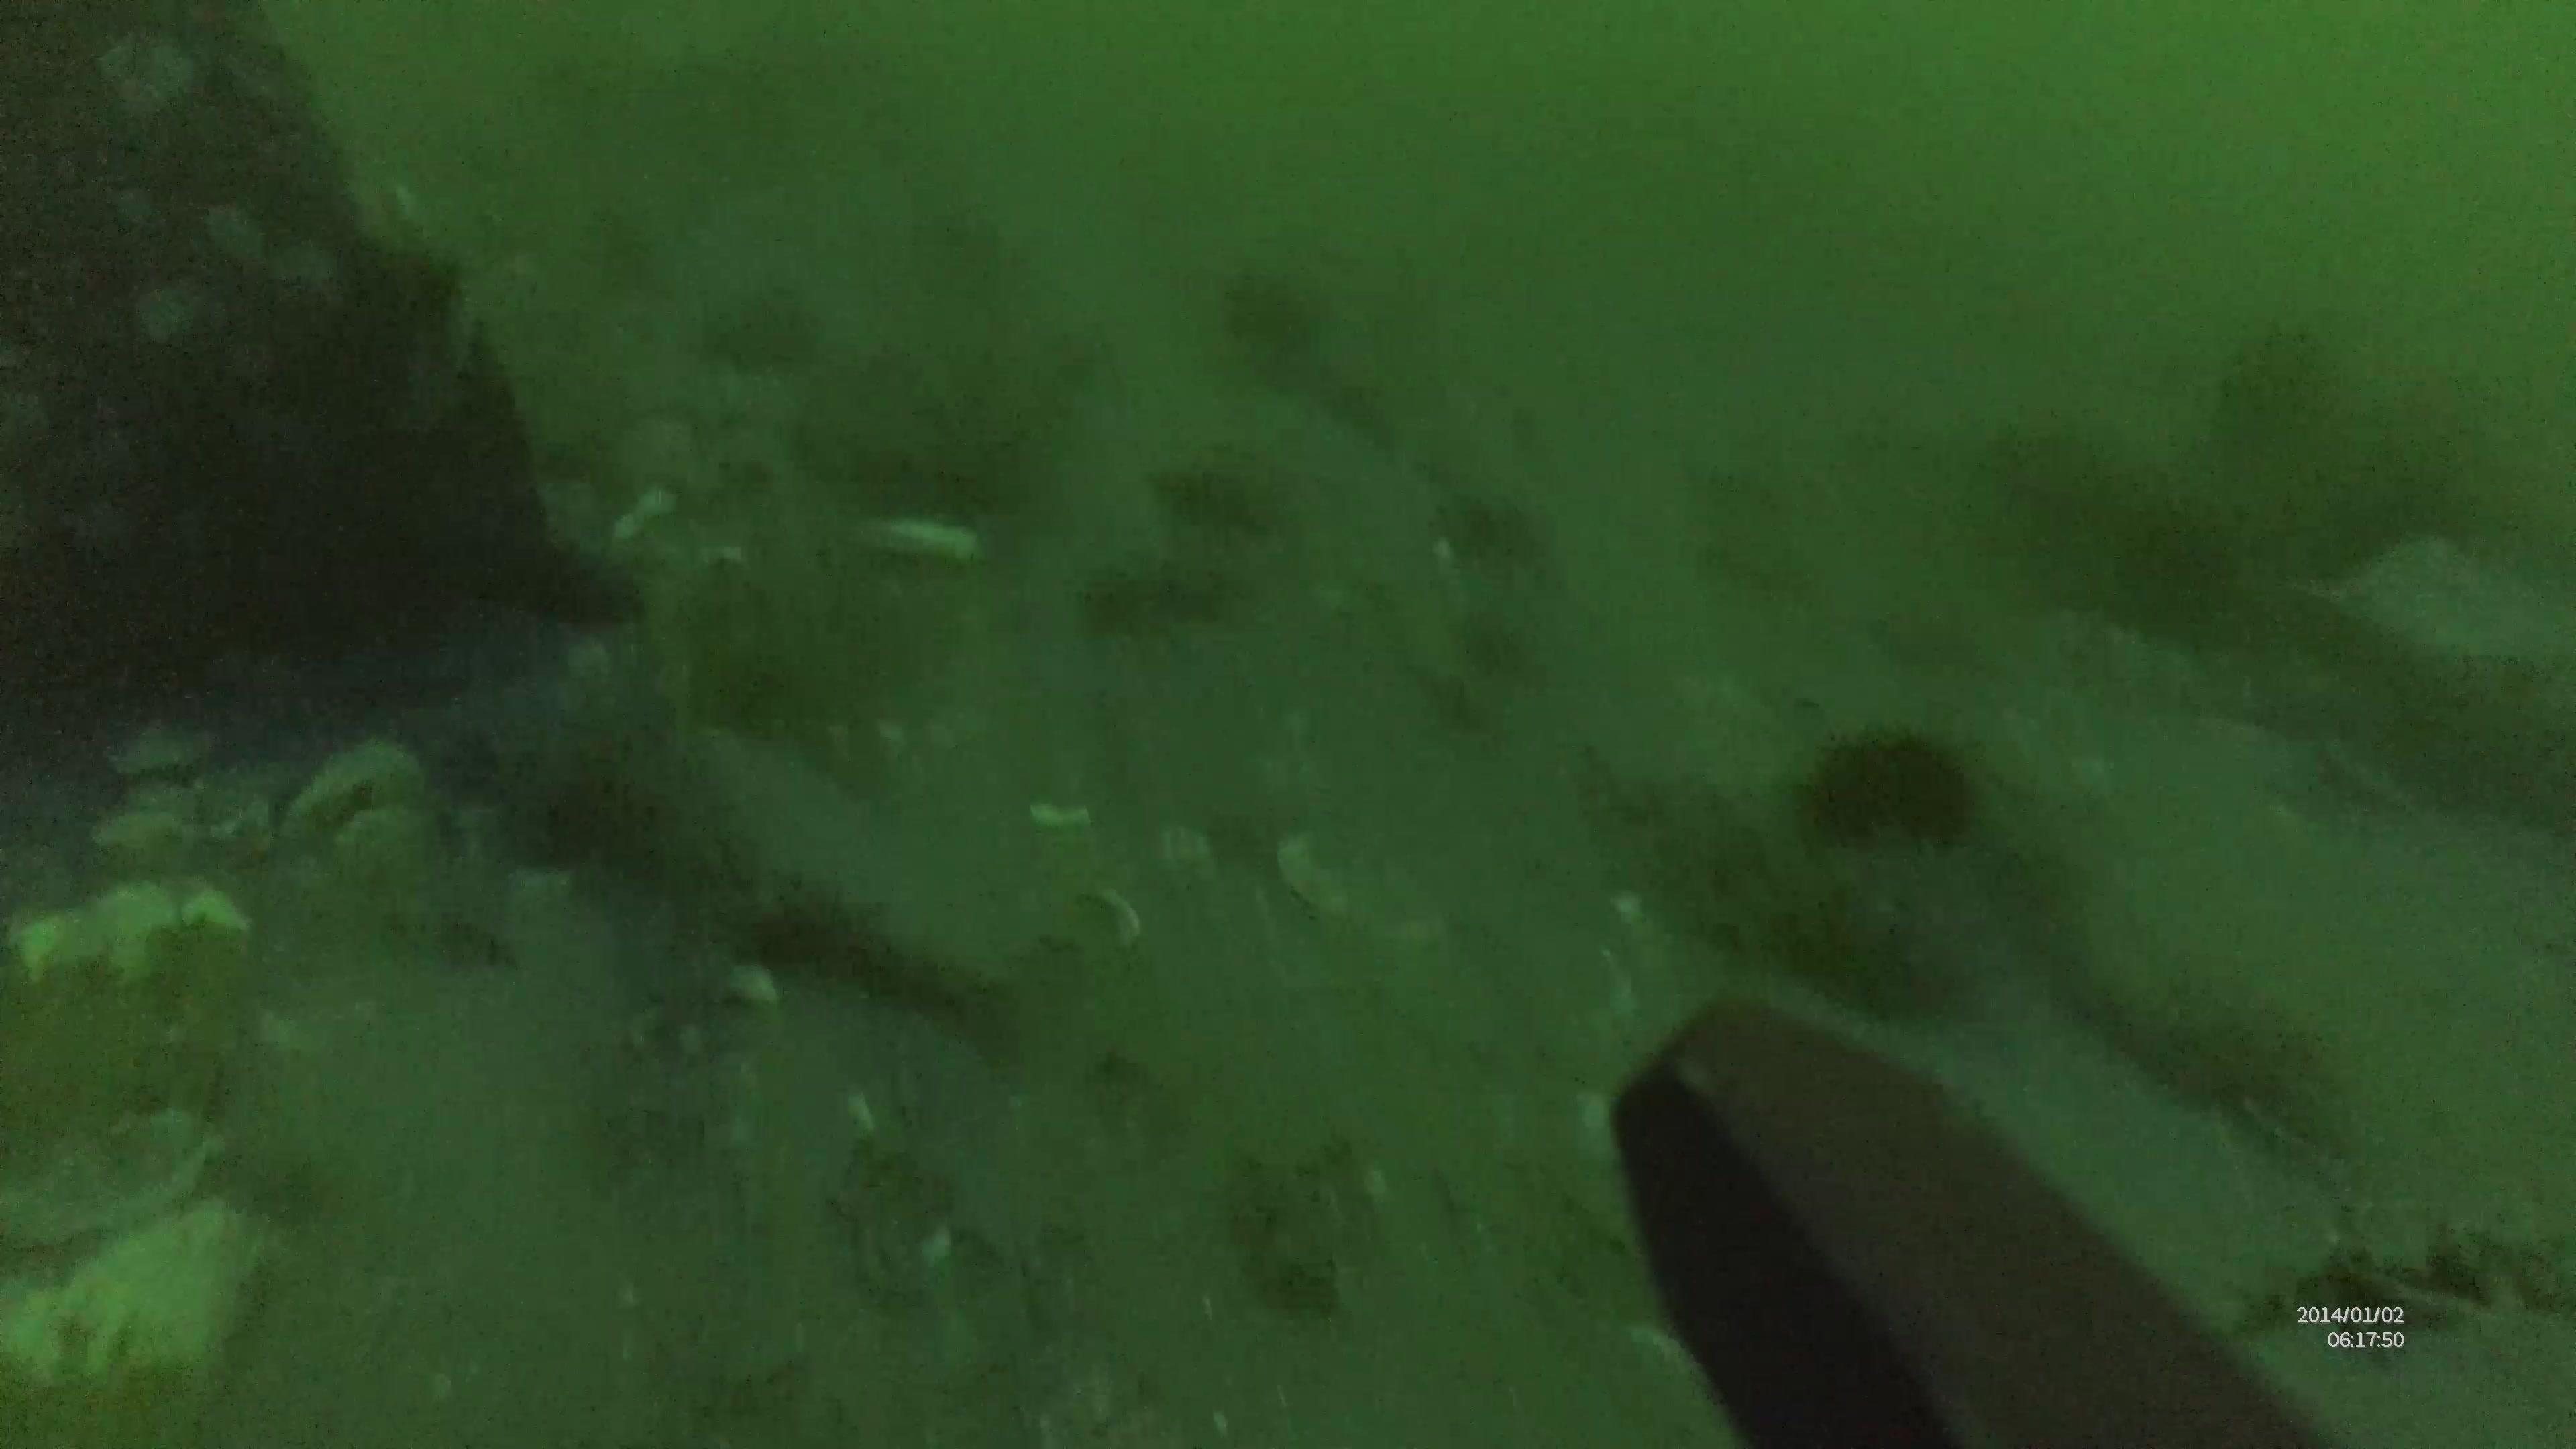echinus: (1798, 718, 1982, 858)
